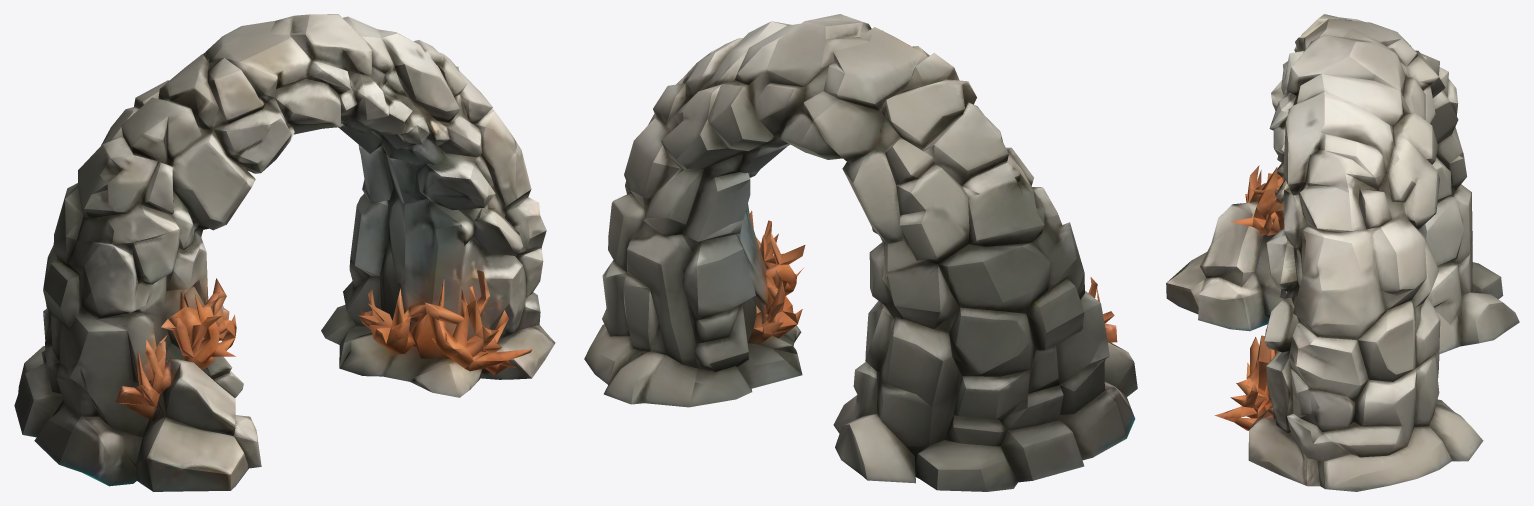
Rendered from rockArch.glb.
The picture shows the model from 3 angles, left to right: view 1: azimuth 30°, elevation 25°; view 2: azimuth 150°, elevation 25°; view 3: azimuth 270°, elevation 25°; orthographic projection. The views are drawn at different scales.
Visible parts, largest first — view 1: model; view 2: model; view 3: model.
Part boxes in pixels (left/top/right/bottom): model: left=14, top=14, right=555, bottom=491; model: left=584, top=14, right=1137, bottom=491; model: left=1166, top=14, right=1519, bottom=491.
Size of the model in its own units: 1.89 by 1.35 by 1.23.
Materials: 1 (1 with a texture image).
